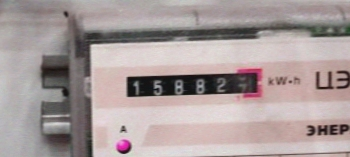1: (131, 80, 141, 96)
2: (215, 76, 226, 93)
5: (152, 79, 163, 95)
7: (237, 82, 247, 94)
8: (173, 79, 184, 96), (194, 78, 205, 95)
screen: (119, 64, 268, 107)
